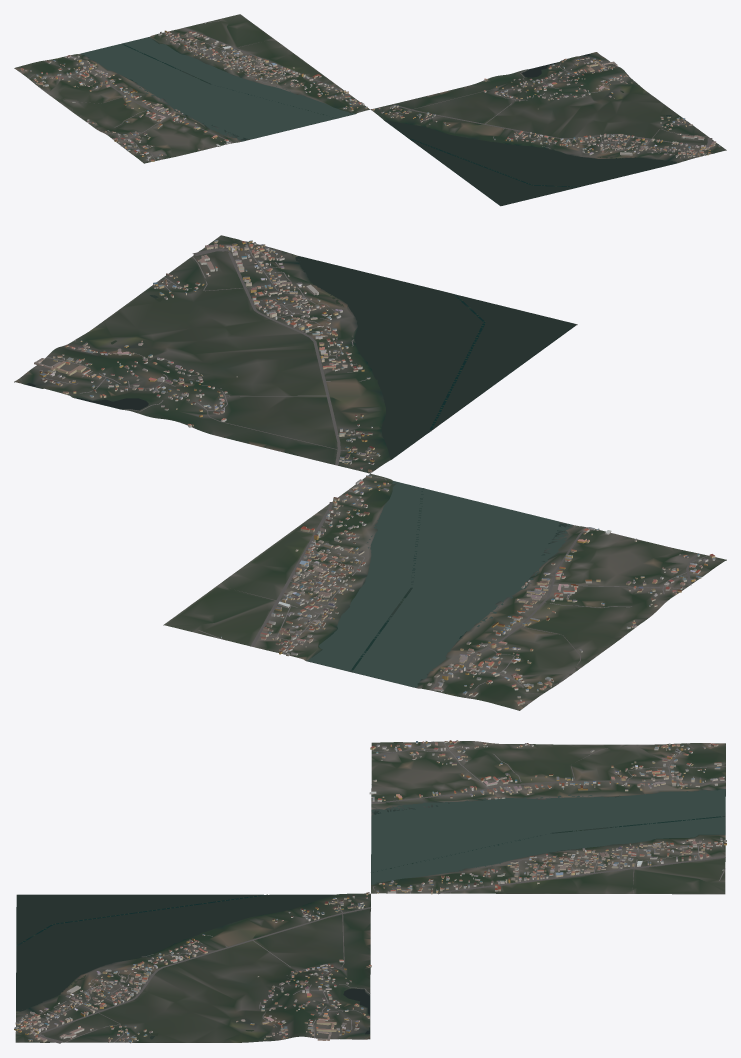
3 renders of one model, top to bottom at view 1: azimuth 30°, elevation 25°; view 2: azimuth 150°, elevation 25°; view 3: azimuth 270°, elevation 25°, orthographic. The views are drawn at different scales.
Visible parts, largest first — view 1: ground, water, buildings, roads; view 2: ground, water, buildings, roads; view 3: ground, water, buildings, roads.
Part boxes in pixels (x1,y1,x2,y2): ground: [14, 14, 726, 206]; water: [80, 37, 676, 205]; buildings: [20, 23, 720, 161]; roads: [20, 20, 712, 160]; ground: [14, 235, 726, 710]; water: [26, 256, 576, 687]; buildings: [34, 240, 715, 705]; roads: [45, 241, 708, 703]; ground: [15, 741, 725, 1042]; water: [16, 789, 725, 1039]; buildings: [14, 740, 726, 1043]; roads: [16, 741, 725, 1043].
Size of the model in its own units: 2817 by 41.15 by 2820.
